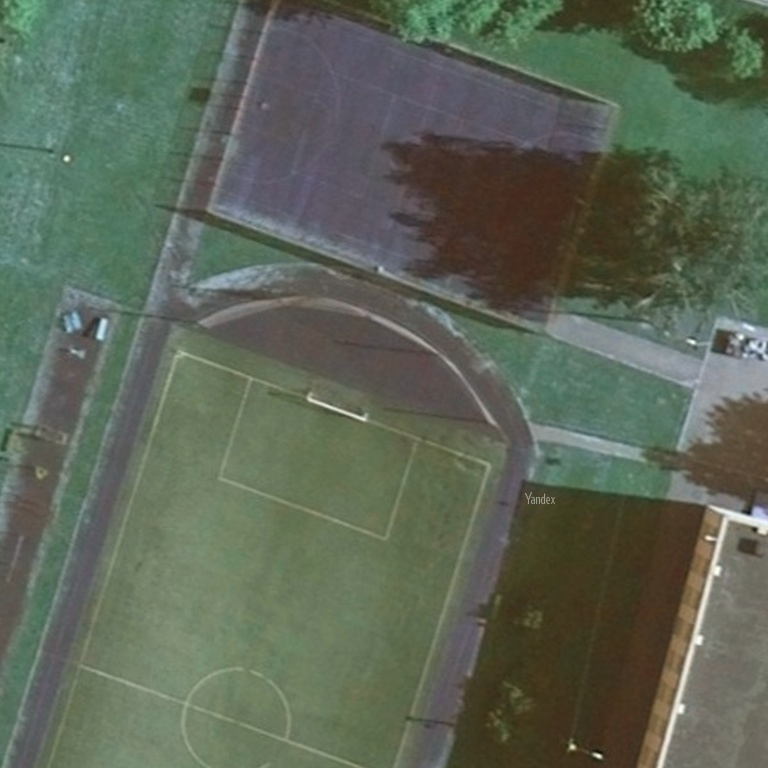basket_court: (199, 3, 637, 346)
